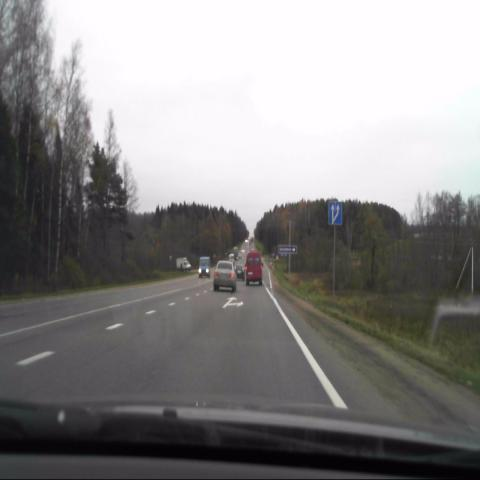5_15_3: (327, 201, 342, 226)
